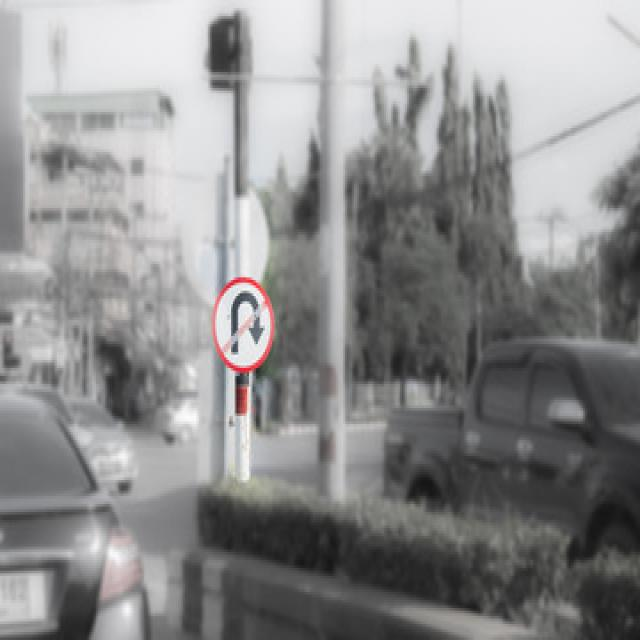no u turn: (212, 274, 277, 371)
